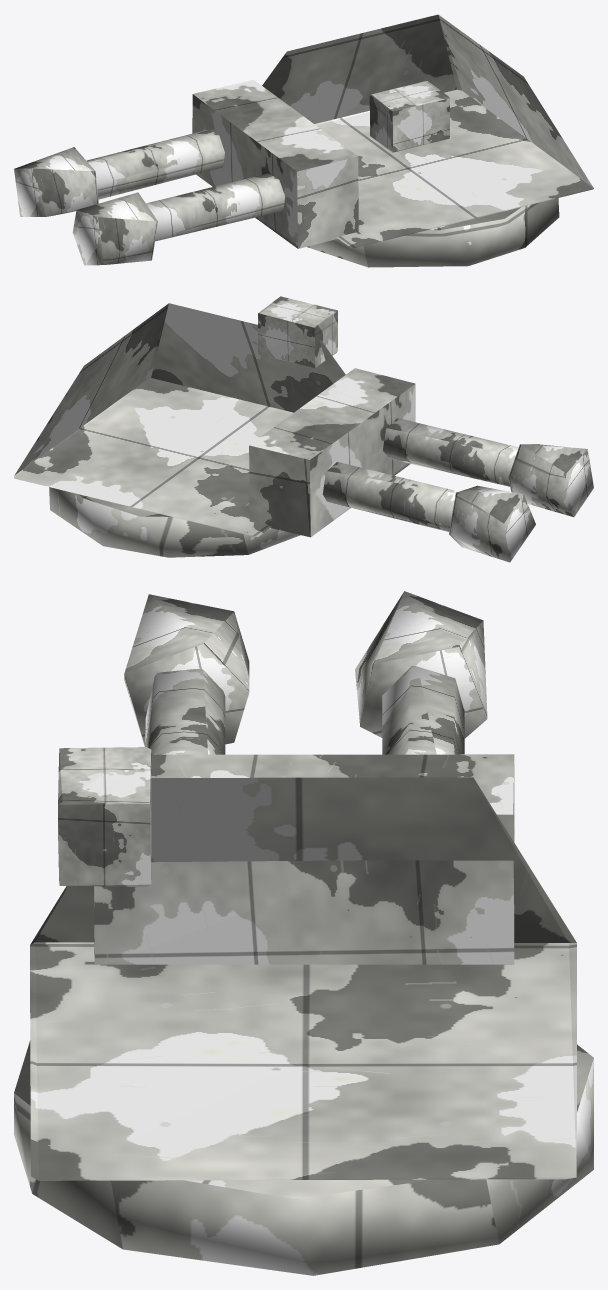
File: flame_tank_turret_lod.glb
The picture shows the model from 3 angles, top to bottom: view 1: azimuth 30°, elevation 25°; view 2: azimuth 150°, elevation 25°; view 3: azimuth 270°, elevation 25°; orthographic projection. The views are drawn at different scales.
Parts seen in each view (by area): view 1: flame_tank_turret_lod; view 2: flame_tank_turret_lod; view 3: flame_tank_turret_lod.
Part boxes in pixels (<box>): flame_tank_turret_lod: <box>14,14,593,267</box>; flame_tank_turret_lod: <box>14,296,593,562</box>; flame_tank_turret_lod: <box>14,591,593,1275</box>.
Bounding box in the file's own units: 2.17 × 0.7021 × 1.13.
1 material, 1 textured.
